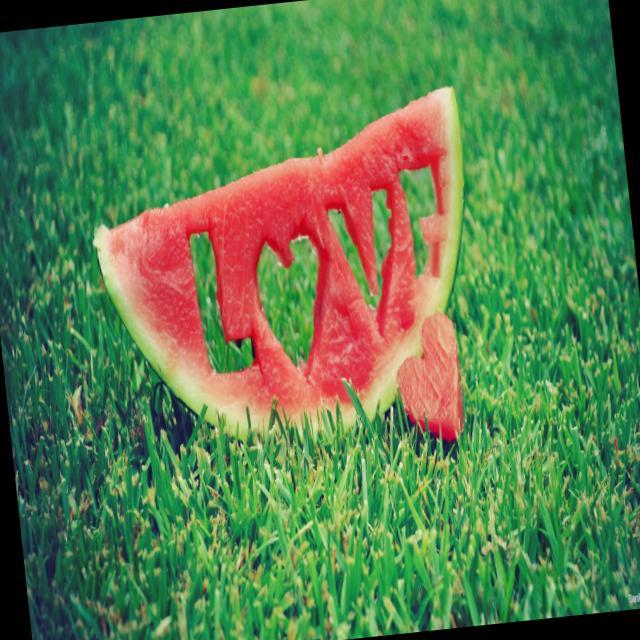WATERMELON: (59, 82, 516, 458)
